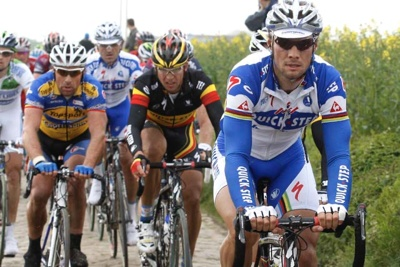helmet: (261, 1, 325, 78), (147, 35, 192, 91)
